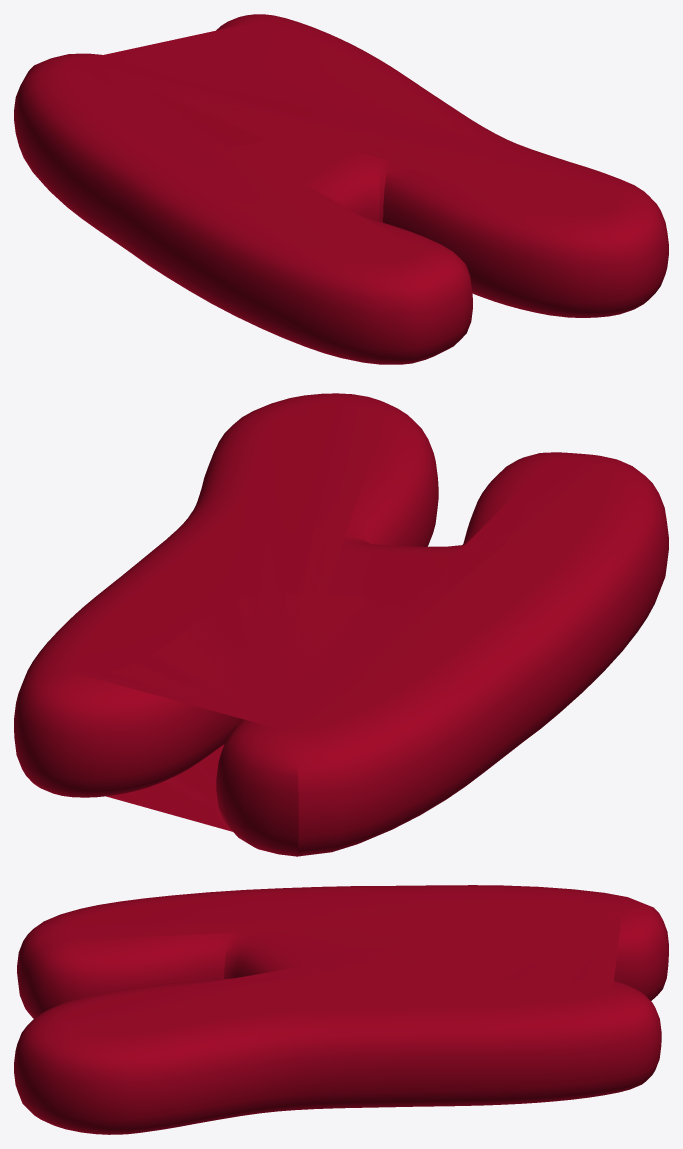
3 renders of one model, top to bottom at view 1: azimuth 30°, elevation 25°; view 2: azimuth 150°, elevation 25°; view 3: azimuth 270°, elevation 25°, orthographic. The views are drawn at different scales.
Parts seen in each view (by area): view 1: Curve.009; view 2: Curve.009; view 3: Curve.009.
Boxes of the visible parts, box(x1,y1,x2,y2) form: Curve.009: box(14, 14, 668, 364); Curve.009: box(14, 393, 668, 856); Curve.009: box(14, 885, 668, 1134).
Size of the model in its own units: 217 by 49.54 by 322.
Materials: 1 (1 with a texture image).
